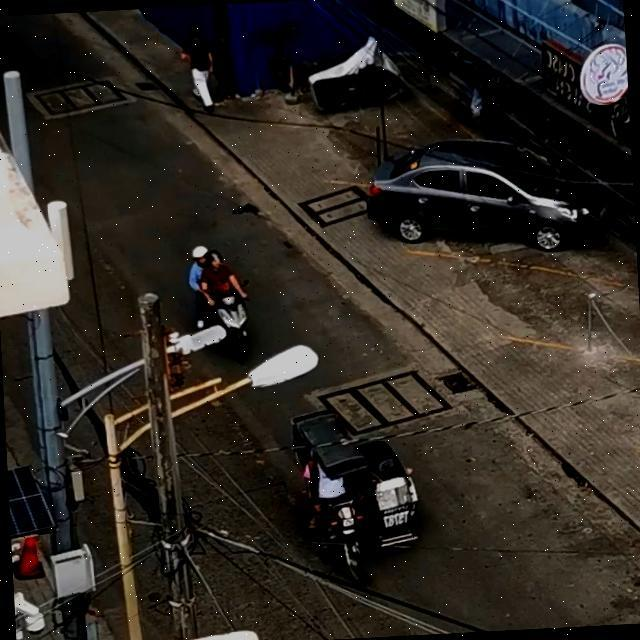Tricycle: (274, 392, 437, 598)
